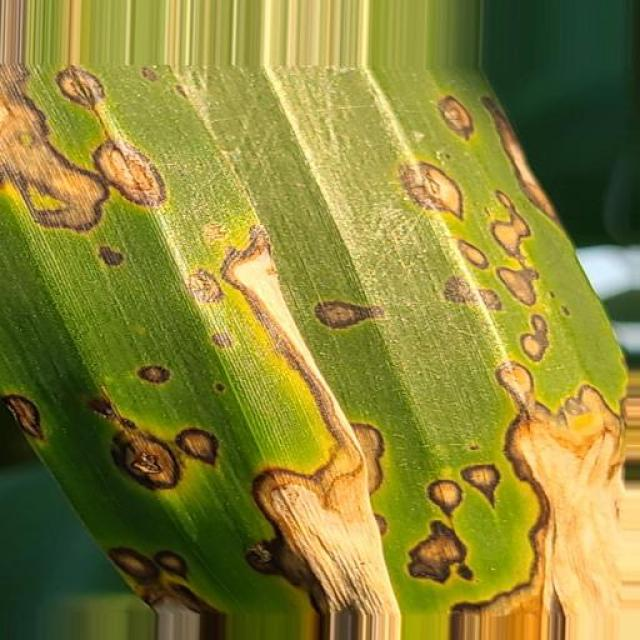Early_rust: (0, 55, 633, 632)
